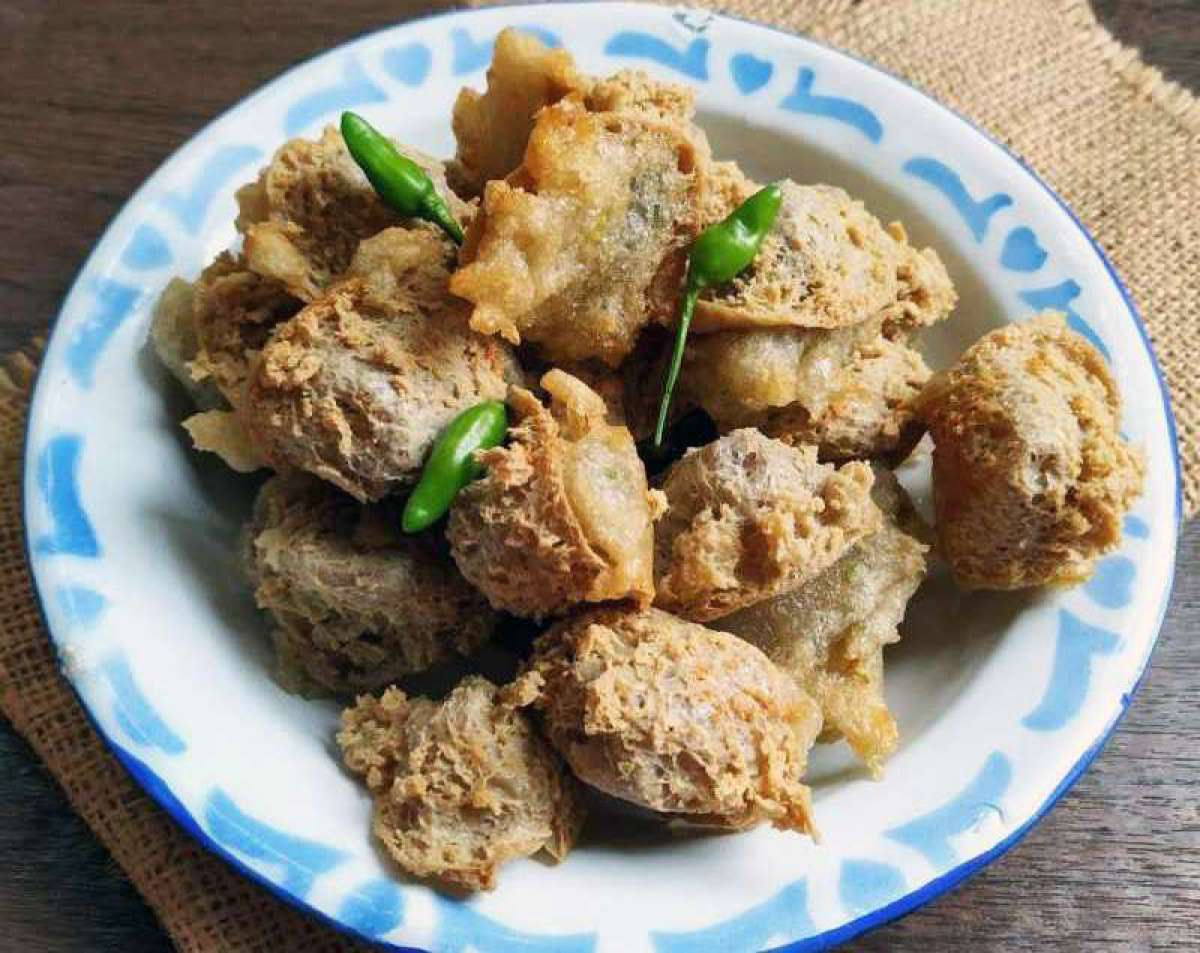Tahu: (527, 596, 817, 875), (915, 285, 1140, 614), (454, 73, 687, 362), (297, 227, 500, 472)
